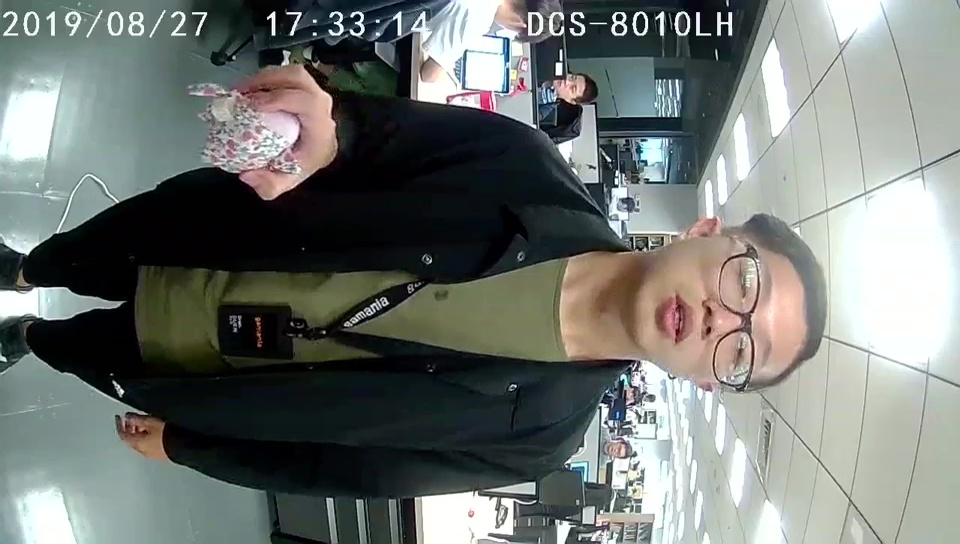pig: (199, 91, 305, 181)
